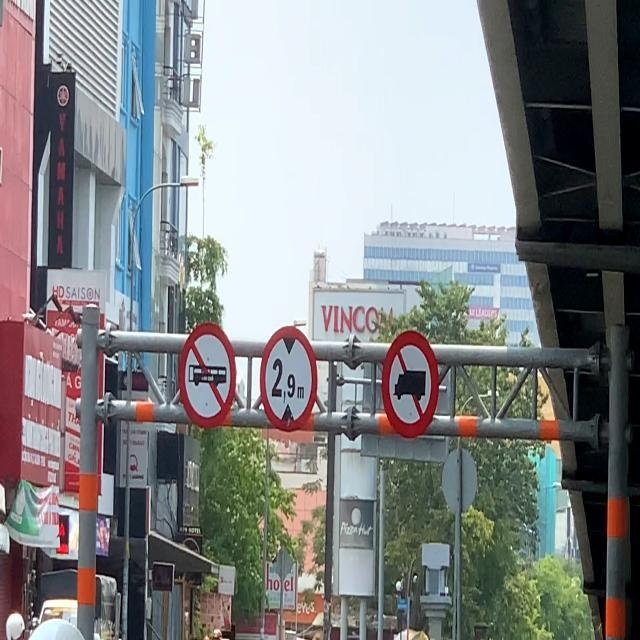bien_cam: (178, 320, 236, 431), (379, 330, 438, 437), (260, 327, 315, 431)
